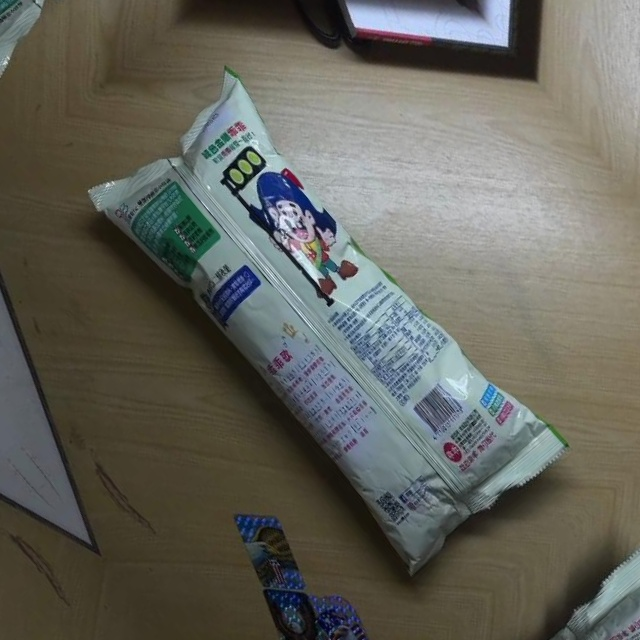Good-Luck: (79, 53, 571, 582)
